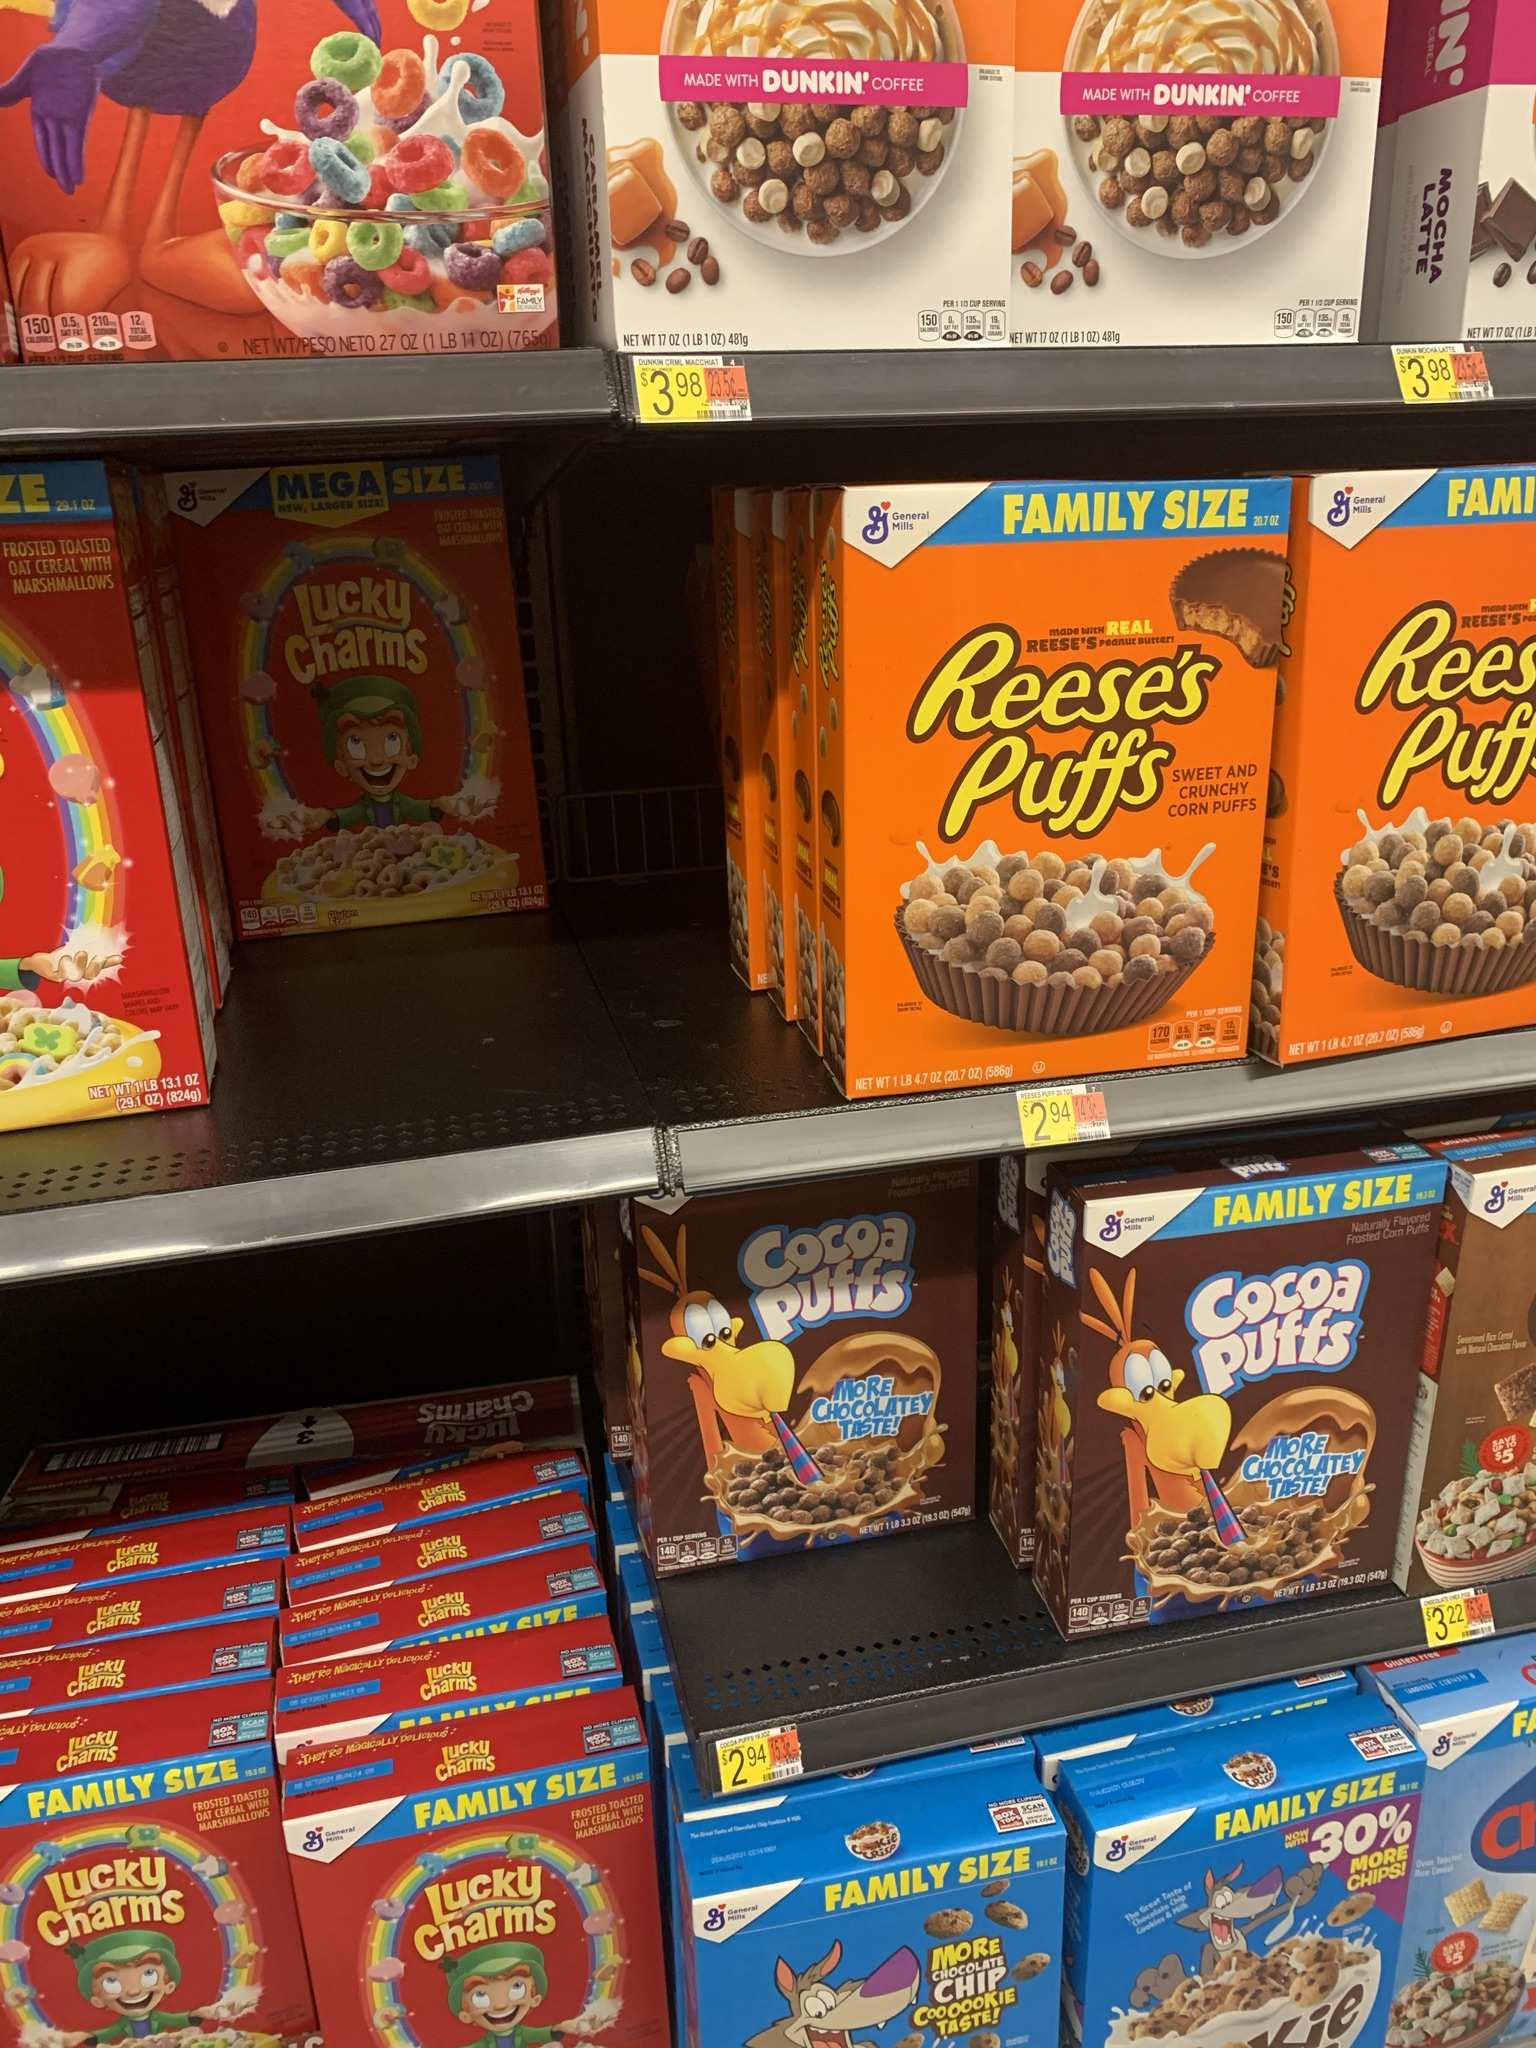Cereal lucky charm: (169, 490, 565, 910)
Cereal lucky charms: (298, 1801, 679, 2048), (6, 1796, 279, 2048)
Cereal reese: (844, 502, 1247, 1071)
cereal cocoa puff: (1092, 1205, 1418, 1624), (624, 1229, 971, 1569)
